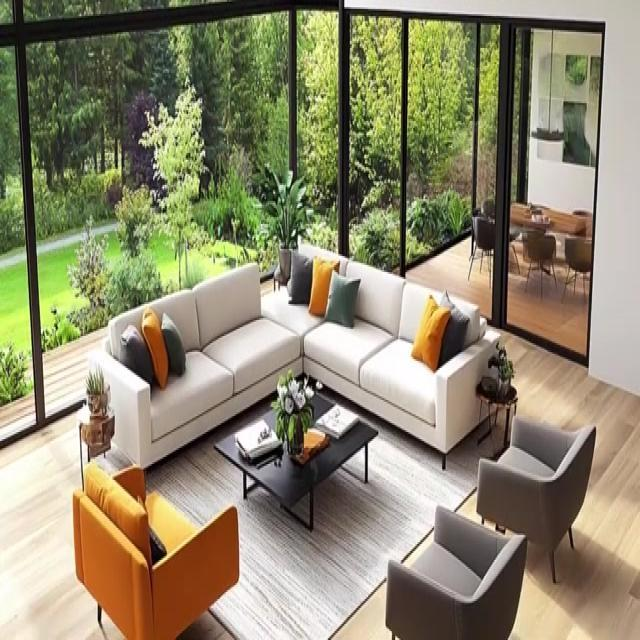obstacle: (88, 244, 504, 478), (72, 461, 239, 638), (213, 384, 378, 532), (476, 412, 596, 584), (385, 503, 527, 638)
